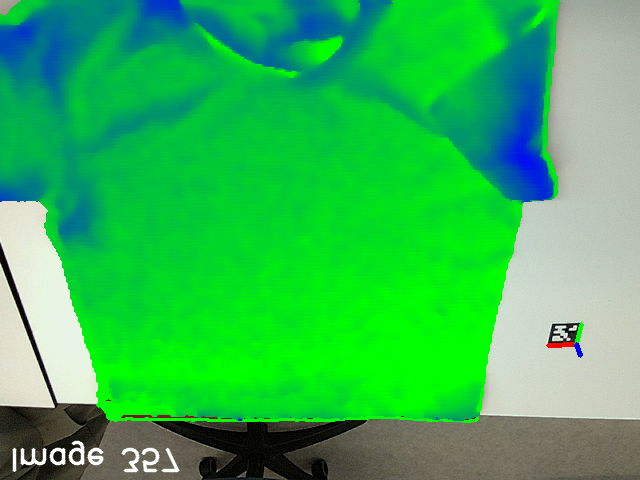V: (419, 81, 461, 129)
